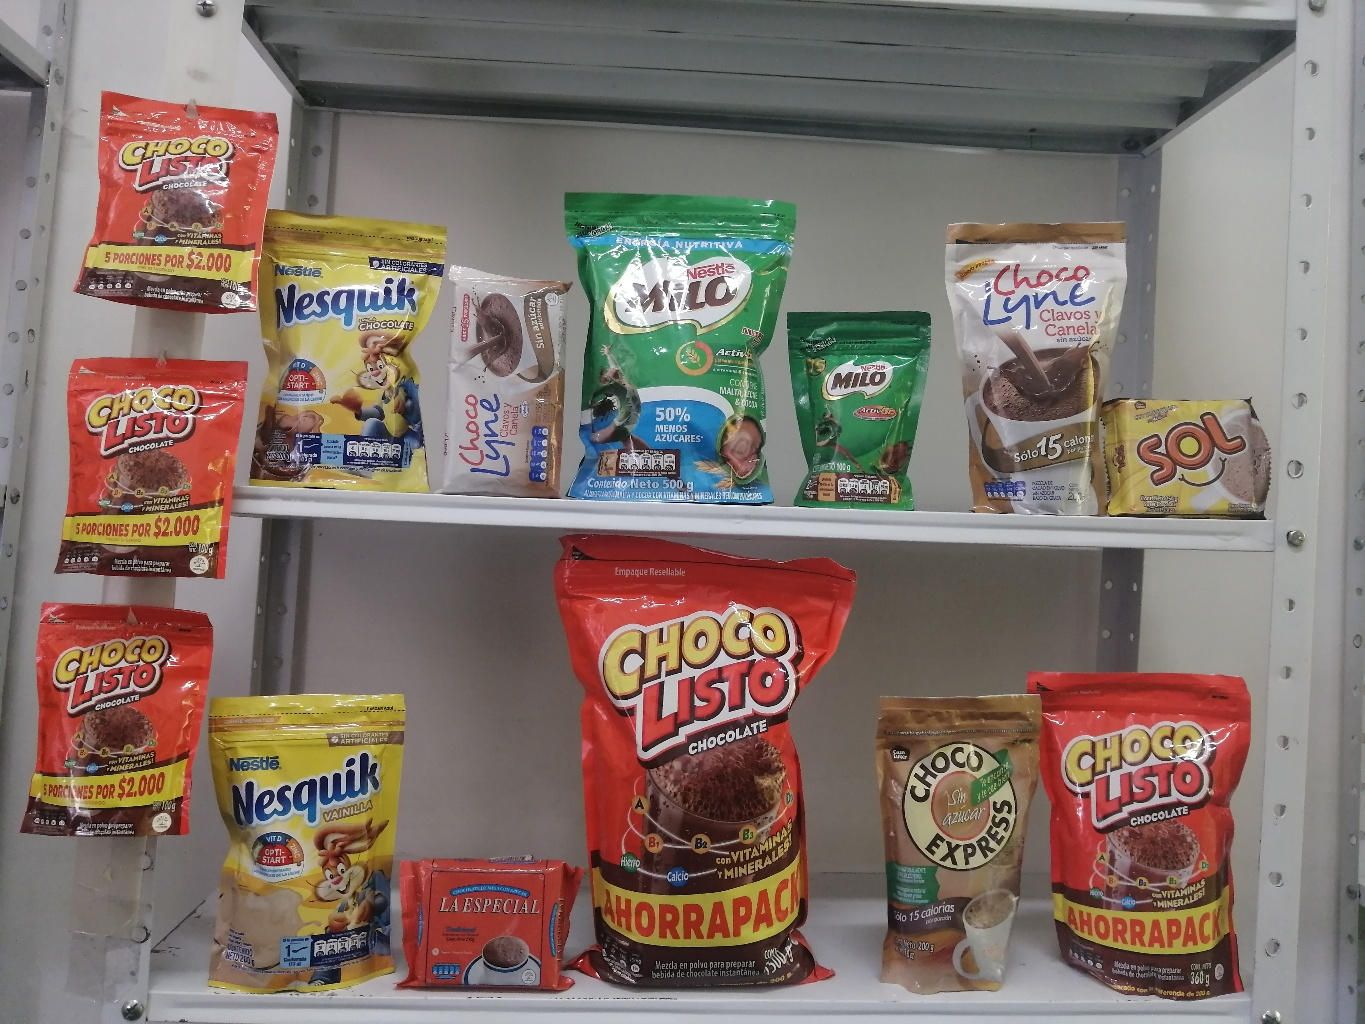COL0170103DYP1,500: (531, 521, 868, 1016)
COL0170103DYP36000: (1014, 649, 1282, 1006)
COL0170203DYP10000: (769, 290, 934, 506)
COL0170205DYP50000: (543, 163, 825, 527)
COL0170303DYP20000: (218, 182, 453, 499)
COL0170306DYP20000: (184, 673, 420, 1018)
